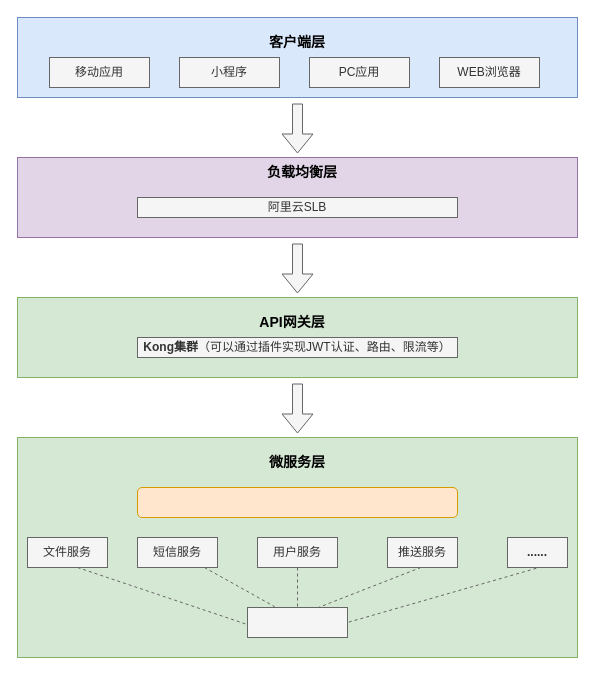
The diagram is 595 pixels wide and 675 high, and some of its shapes have lost their labels. The centre of each missing label's shape, as x and y in pixels:
1. 微服务内使用Spring Cloud Security进行细粒度权限管控 2. 微服务间使用Feign进行通信: point (297, 502)
Nacos集群: point (297, 622)
